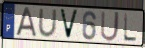6: (82, 10, 98, 41)
A: (15, 7, 38, 38)
L: (122, 12, 138, 44)
U: (99, 10, 121, 43), (37, 8, 58, 39)
V: (58, 7, 80, 40)
